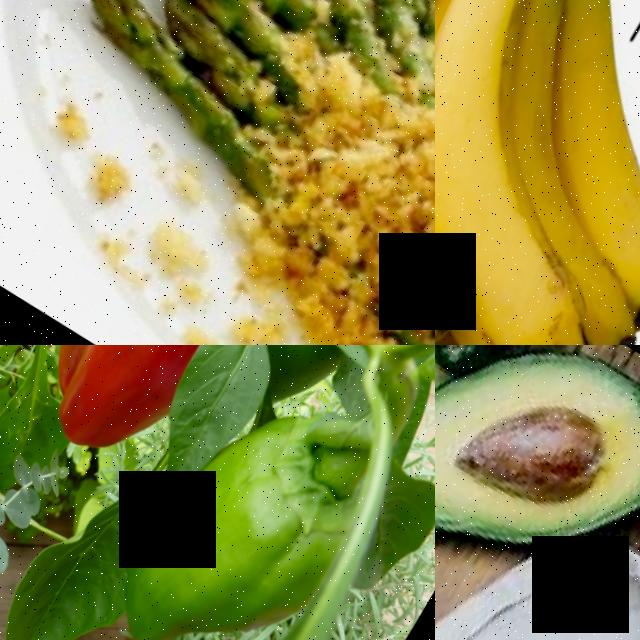asparagus: (29, 0, 283, 180), (95, 0, 299, 40)
avocado: (435, 345, 640, 640)
banana: (435, 0, 640, 345)
bell pepper: (108, 345, 398, 640), (10, 345, 255, 482)
